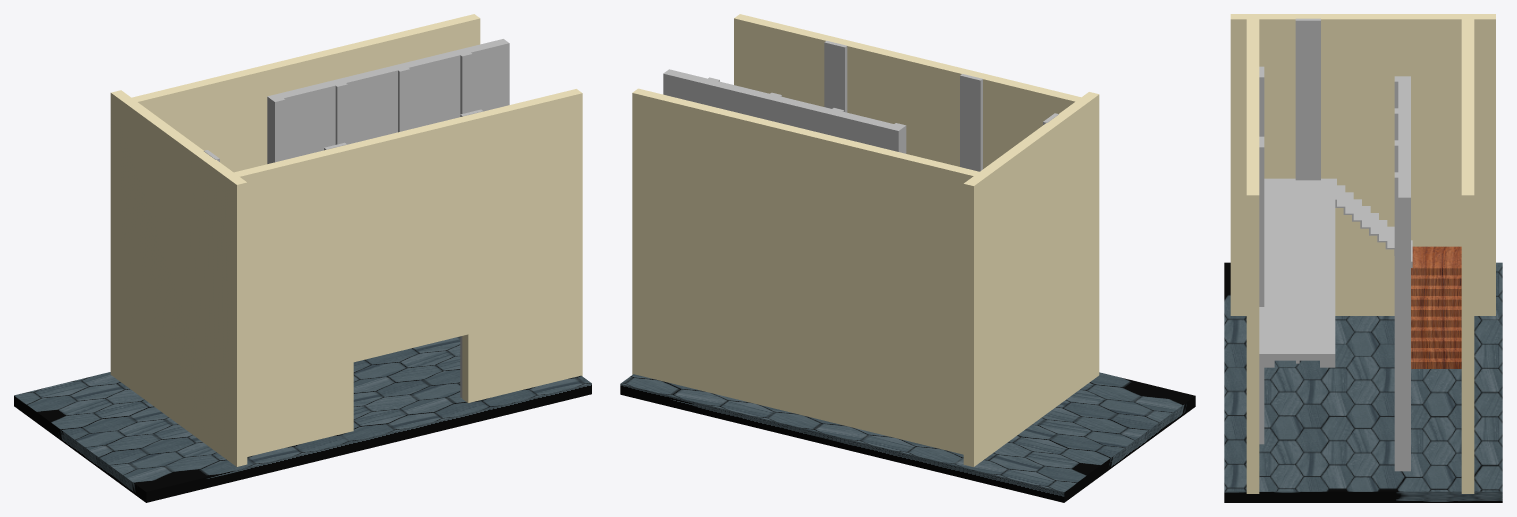
File: SekiroTower2.fbx
3 views of the same model, side by side, from view 1: azimuth 30°, elevation 25°; view 2: azimuth 150°, elevation 25°; view 3: azimuth 270°, elevation 25° (orthographic). The views are drawn at different scales.
Parts seen in each view (by area): view 1: Cube.005, Cube.007, Cube.002, Cube.004, Cube.006; view 2: Cube.006, Cube.007, Cube.002, Cube.005, Cube.004, Cube.009, Cube.008; view 3: Cube.007, Cube.002, Cube.003, Cube.004, Cube.005, Cube.006, Cube, Cube.010, Cube.001, Cube.008, Cube.009.
Part boxes in pixels (x1,y1,x2,y2): Cube.005: (233,89,582,456); Cube.007: (110,90,247,466); Cube.002: (14,336,591,502); Cube.004: (267,39,509,163); Cube.006: (131,14,480,172); Cube.006: (632,88,979,454); Cube.007: (963,92,1099,466); Cube.002: (620,372,1195,502); Cube.005: (734,14,1081,168); Cube.004: (663,69,906,153); Cube.009: (960,74,982,171); Cube.008: (824,40,847,112); Cube.007: (1230,14,1495,315); Cube.002: (1224,262,1502,502); Cube.003: (1259,178,1335,367); Cube.004: (1394,76,1410,471); Cube.005: (1246,19,1259,493); Cube.006: (1461,19,1474,493); Cube: (1411,246,1461,368); Cube.010: (1295,18,1320,180); Cube.001: (1335,178,1412,267); Cube.008: (1259,136,1264,444); Cube.009: (1259,66,1264,136).
Bounding box in the file's own units: 2149 × 1347 × 1100.
